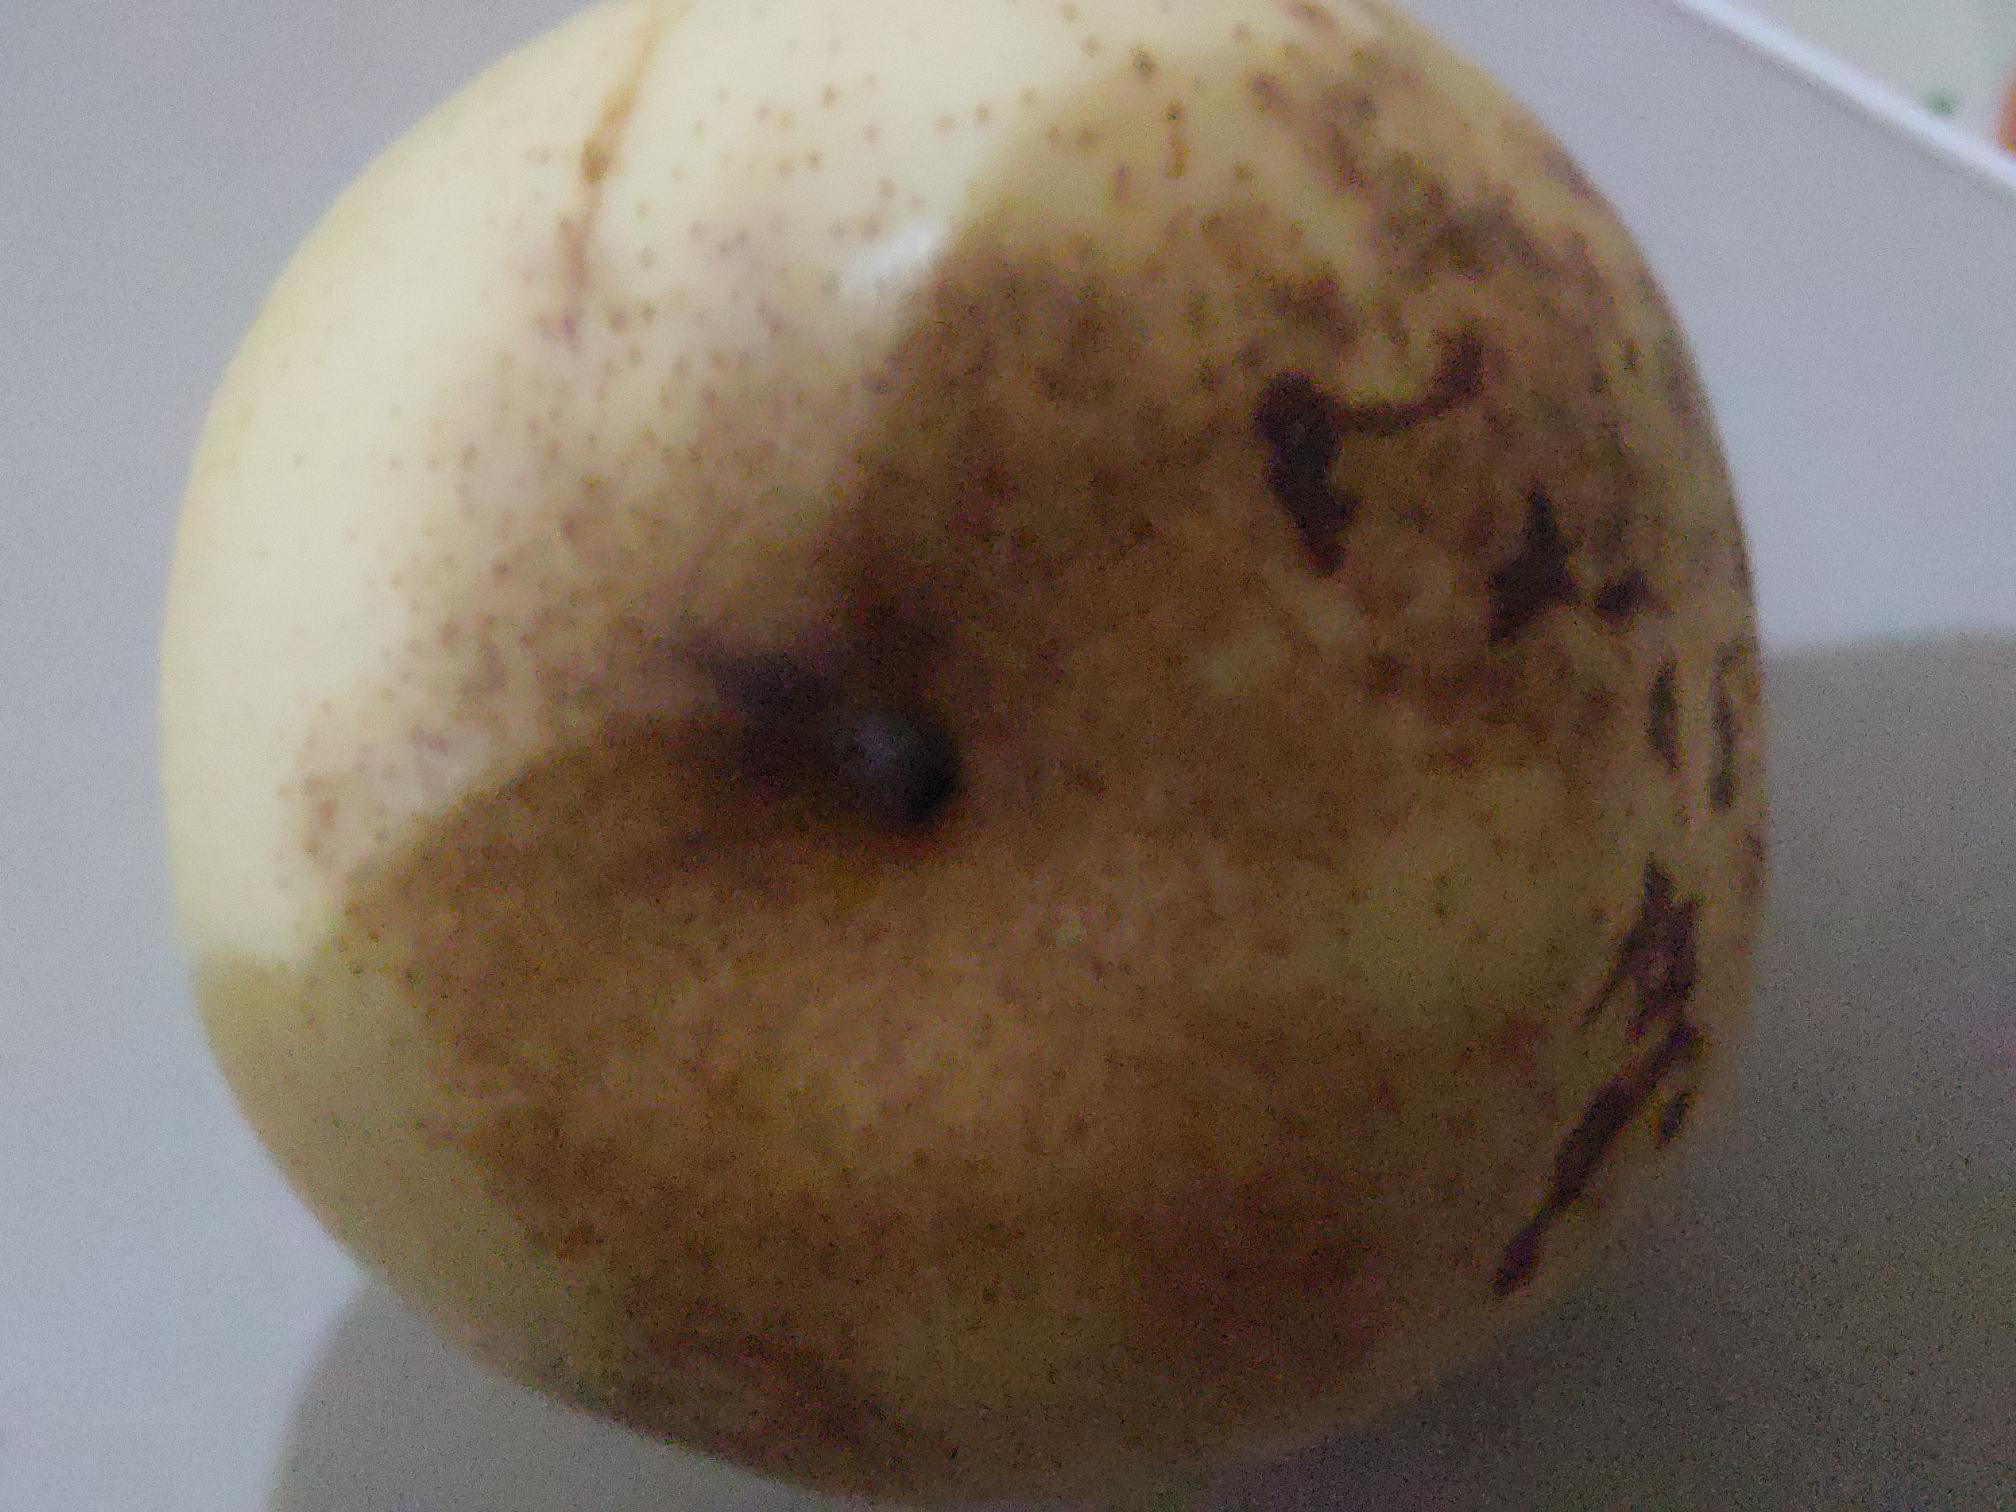Bad Pear: (162, 0, 1787, 1512)
